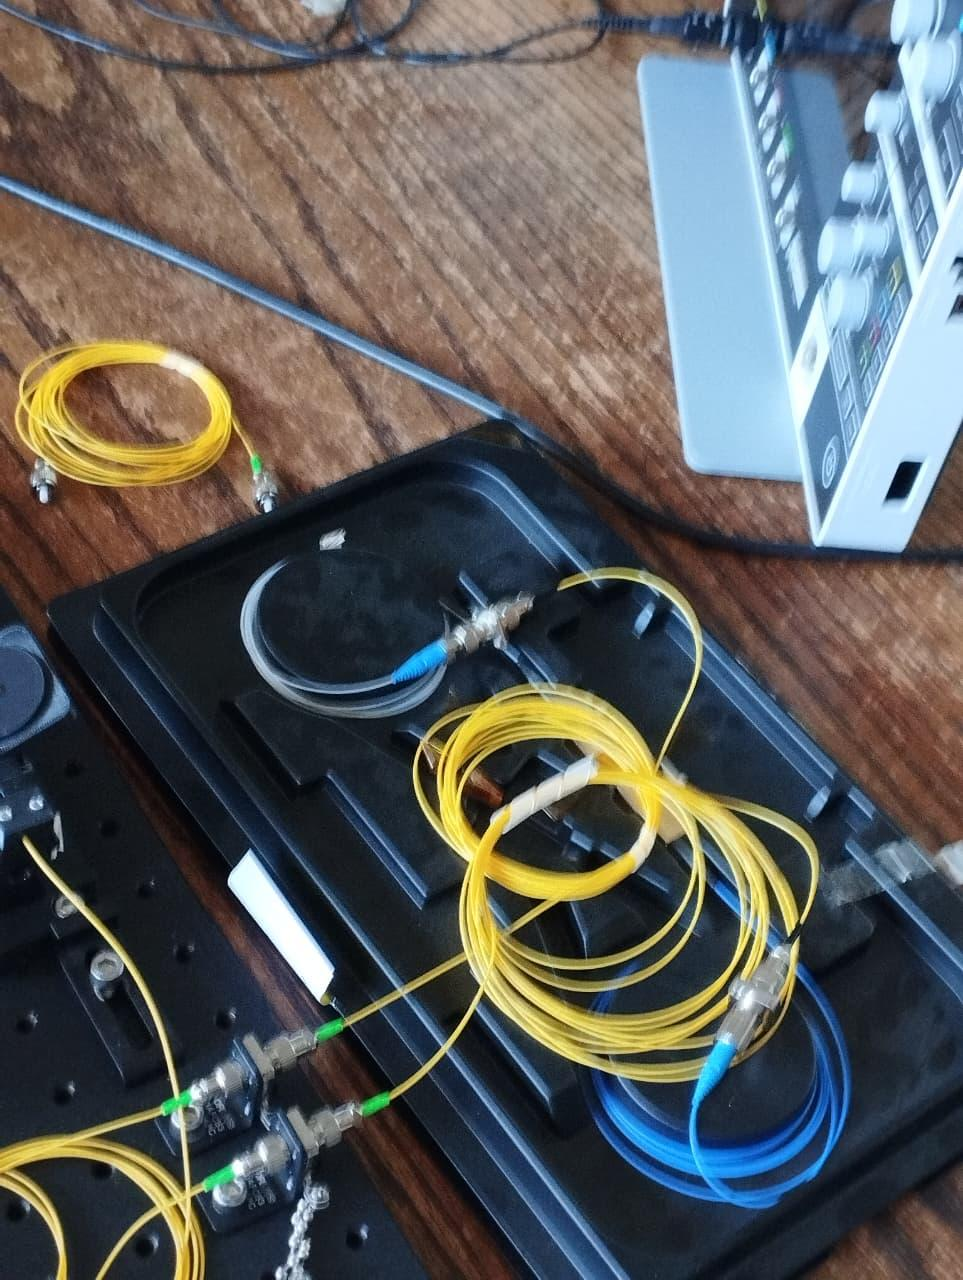fiber_cable: (405, 645, 844, 1085), (25, 301, 290, 532), (0, 1092, 260, 1280)
